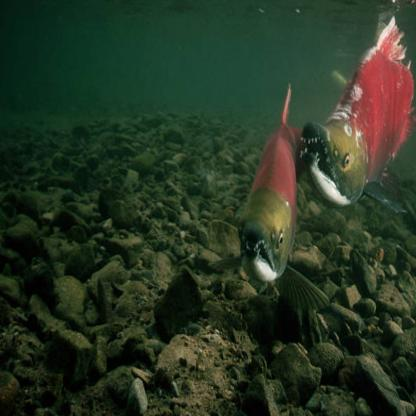sockeye: (301, 13, 416, 209), (214, 82, 296, 299)
